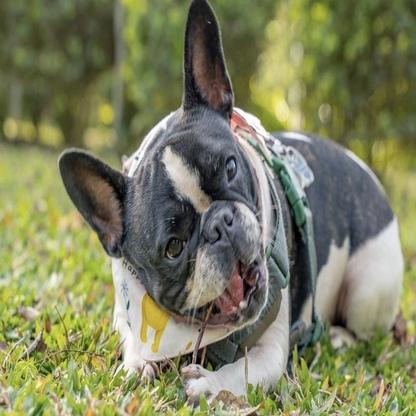bulldog: (53, 1, 416, 408)
